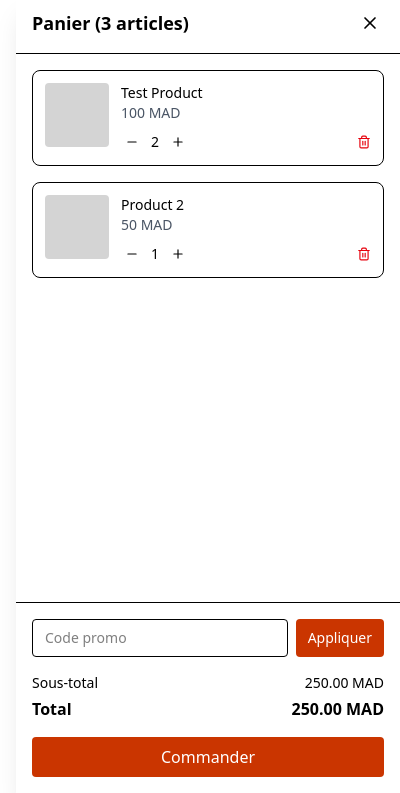
Cart Component › allows removing coupon
Note: Apply coupon
In the field with placeholder "Code promo": (160, 638) [32, 619, 288, 657], type "PROMO10"
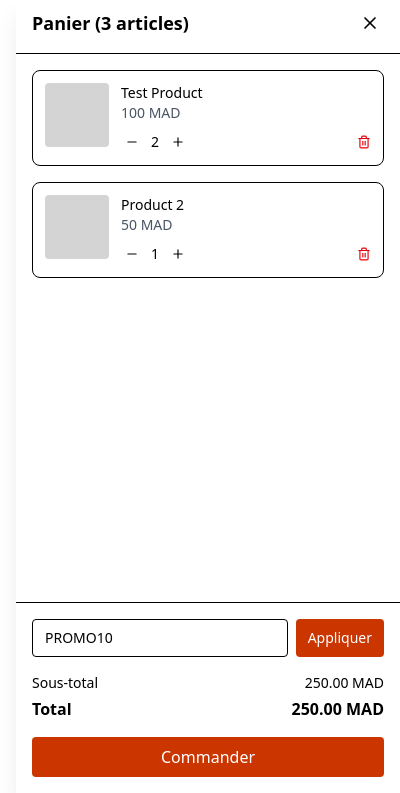
Click the button "Appliquer": (340, 638) [296, 619, 384, 657]
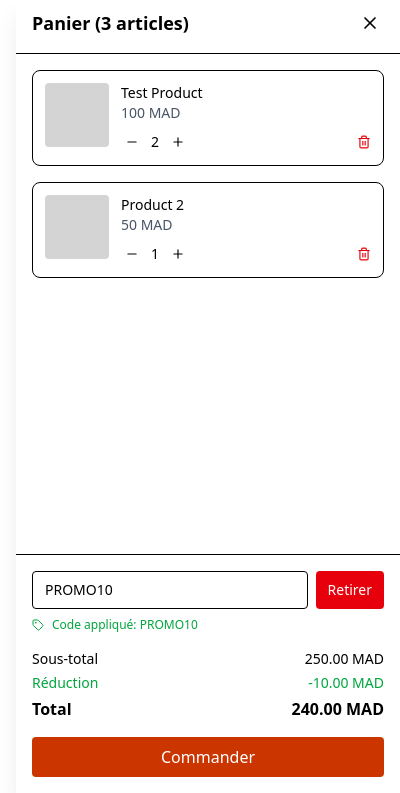
Check: the text "Code appliqué: PROMO10" is shown, box [52, 617, 198, 633]
Note: Remove coupon
Click the button "Retirer": (350, 590) [316, 571, 384, 609]
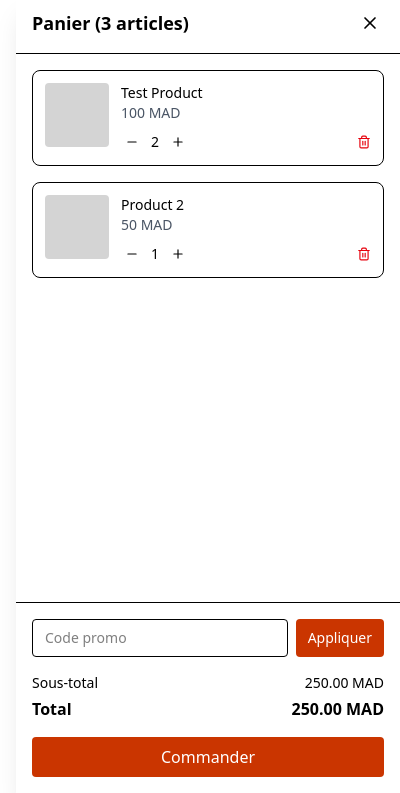
Check: the text "Code appliqué" is gone
